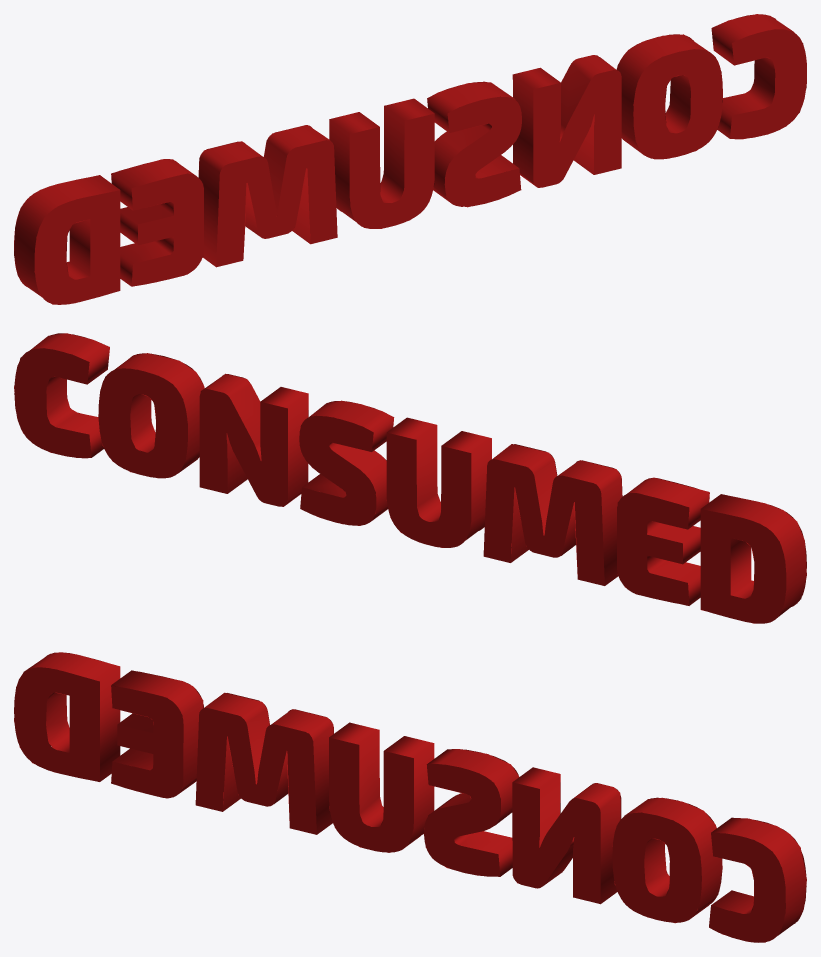
Rendered from consumed.fbx.
The picture shows the model from 3 angles, top to bottom: view 1: azimuth 30°, elevation 25°; view 2: azimuth 150°, elevation 25°; view 3: azimuth 330°, elevation 25°; orthographic projection.
Parts seen in each view (by area): view 1: Text; view 2: Text; view 3: Text.
Part boxes in pixels (x1=…): Text: x1=14, y1=14, x2=806, y2=304; Text: x1=14, y1=333, x2=806, y2=623; Text: x1=14, y1=652, x2=806, y2=942.
Size of the model in its own units: 17.4 by 2.25 by 0.8.
